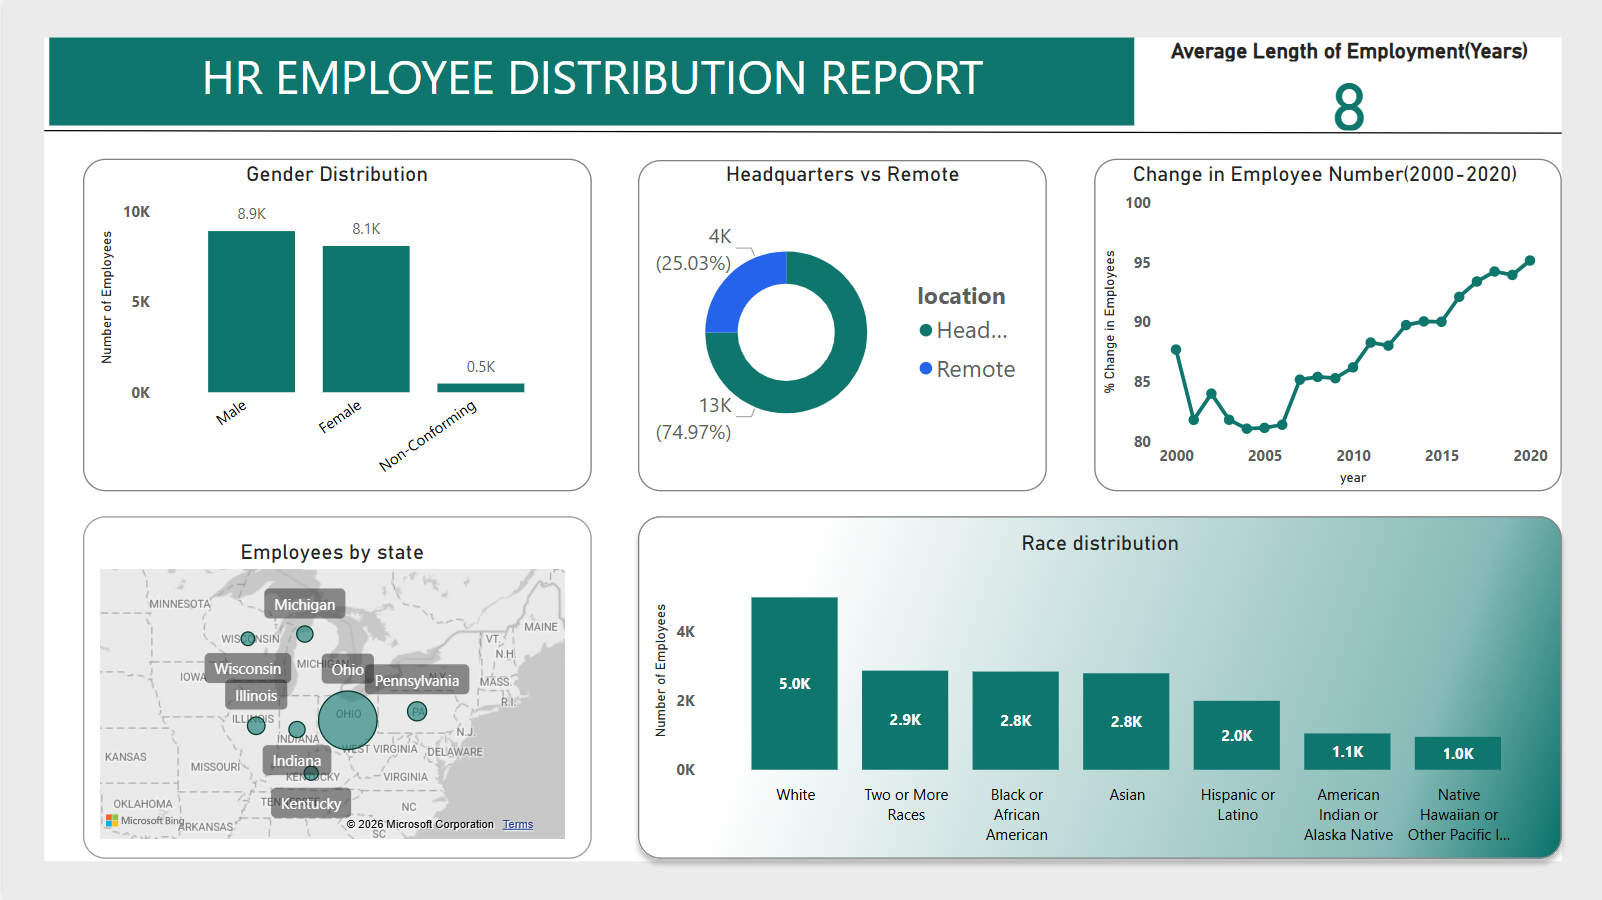

Layout of this report page (visuals, bound fields, positions):
{"tool":"powerbi","page":{"name":"Page 1","canvas":[1280,720],"ordinal":0},"visuals":[{"type":"textbox","box":[37.2,30.2,867.4,69.8],"z":0},{"type":"card","title":"Average Length of Employment(Years)","fields":{"Values":["Sum(avg_length.avg_length_employment)"]},"box":[904.7,30.2,343,79.1],"z":1000},{"type":"columnChart","title":"Gender Distribution","fields":{"Category":["gender.gender"],"Y":["Sum(gender.count)"]},"box":[72.3,129.2,389.9,263.1],"z":2000},{"type":"donutChart","title":"Headquarters vs Remote","fields":{"Y":["Sum(location.count)"],"Category":["location.location"]},"box":[515.6,129.2,311.7,254.8],"z":3000},{"type":"lineChart","title":"Change in Employee Number(2000-2020)","fields":{"Category":["employee_change.year"],"Y":["Sum(employee_change.net_change_percent)"]},"box":[874.4,129.1,365.1,264],"z":4000},{"type":"map","title":"Employees by state","fields":{"Category":["state.location_state"],"Size":["Sum(state.count)"]},"box":[72.3,431.4,381.6,244.1],"z":5000},{"type":"clusteredColumnChart","title":"Race distribution ","fields":{"Y":["Sum(race.count)"],"Category":["race.race"]},"box":[515.1,424.4,724.4,258.1],"z":6000}]}

Visuals, with their boxes in screenshot pixels (x1, y1, x2, y2), scaled from the page's 1280x720 canvas onto the 1602x900 screenshot:
textbox: (left=47, top=38, right=1132, bottom=125)
"Average Length of Employment(Years)" card: (left=1132, top=38, right=1562, bottom=137)
"Gender Distribution" columnChart: (left=90, top=162, right=578, bottom=490)
"Headquarters vs Remote" donutChart: (left=645, top=162, right=1035, bottom=480)
"Change in Employee Number(2000-2020)" lineChart: (left=1094, top=161, right=1551, bottom=491)
"Employees by state" map: (left=90, top=539, right=568, bottom=844)
"Race distribution " clusteredColumnChart: (left=645, top=530, right=1551, bottom=853)
